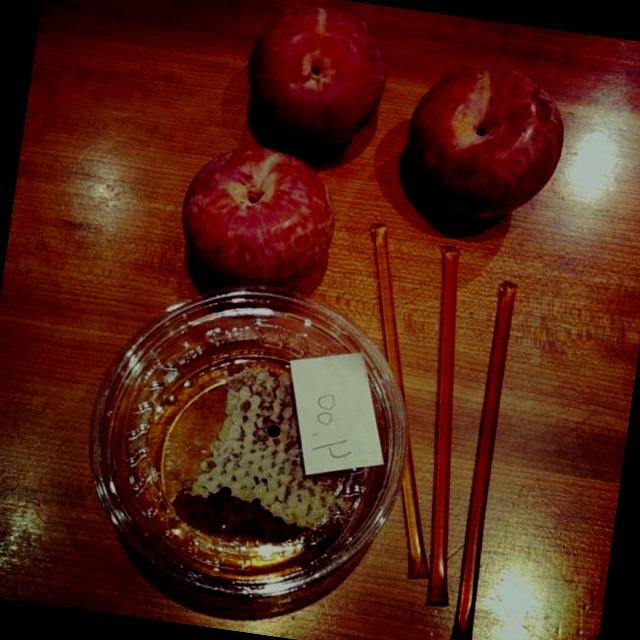Apple: (398, 56, 574, 230), (172, 136, 345, 310), (238, 0, 396, 158)
